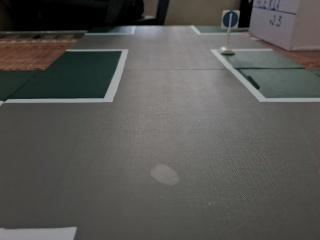straight: (215, 6, 248, 32)
